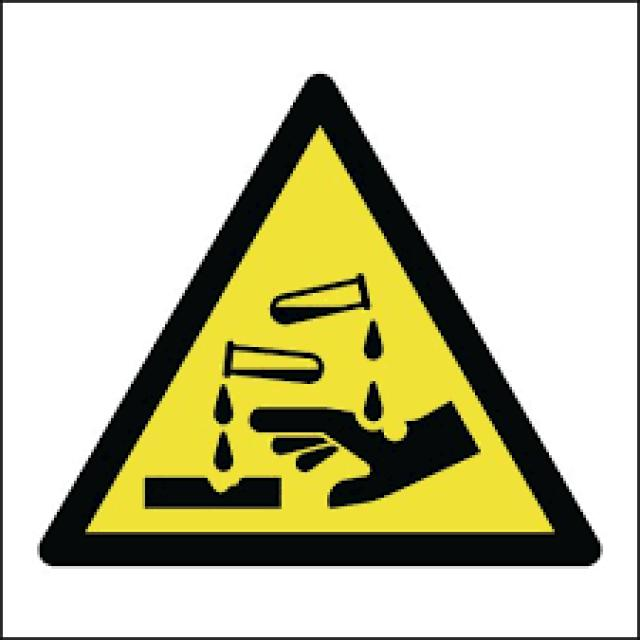corrosion-risk: (12, 44, 622, 596)
